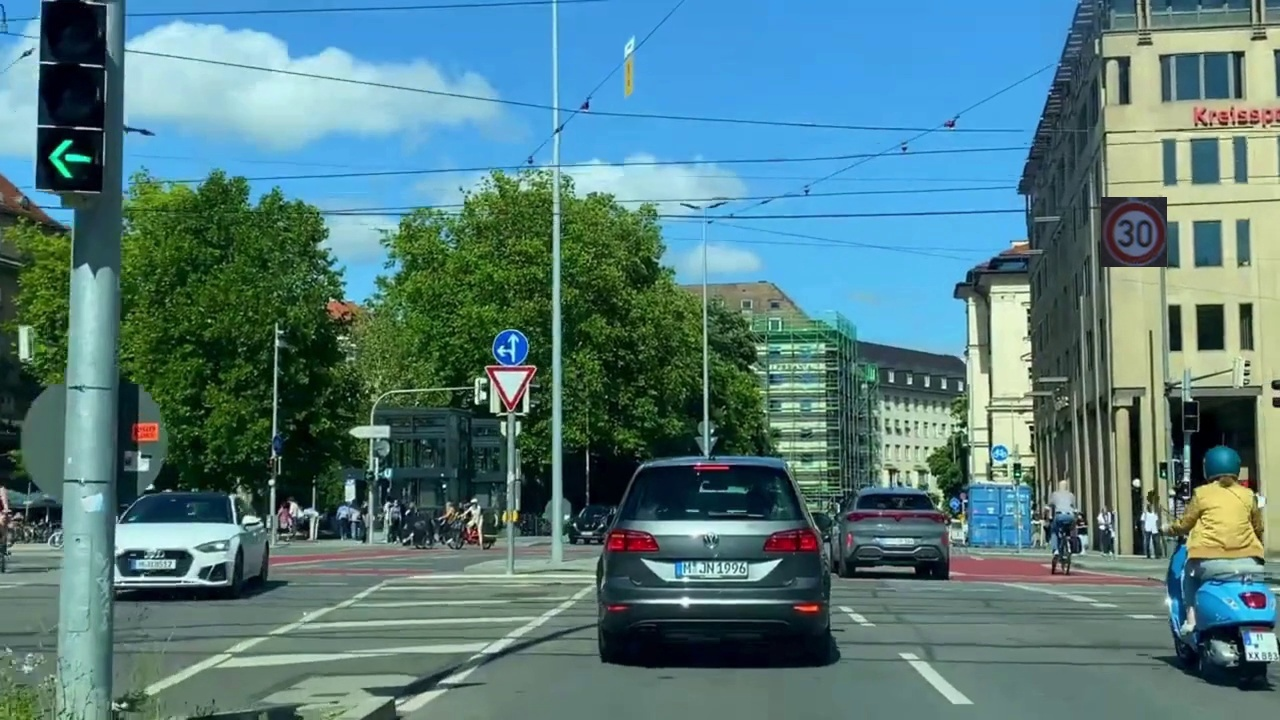Speed 30: (1101, 197, 1167, 267)
